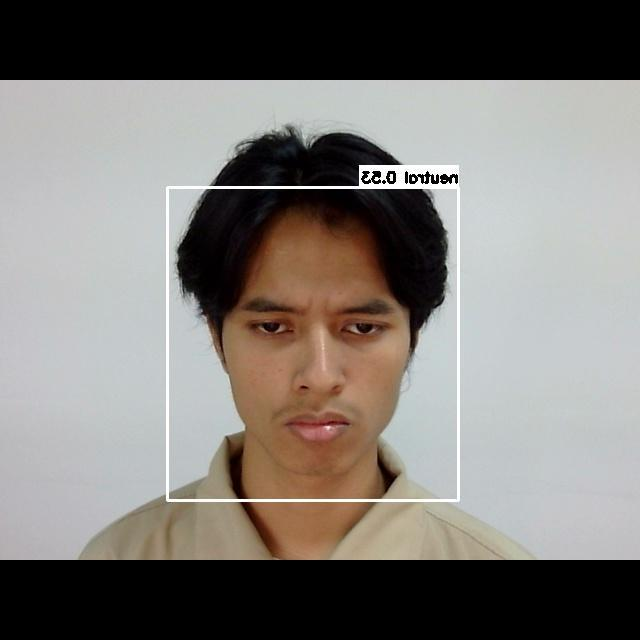Sad: (197, 263, 427, 449)
